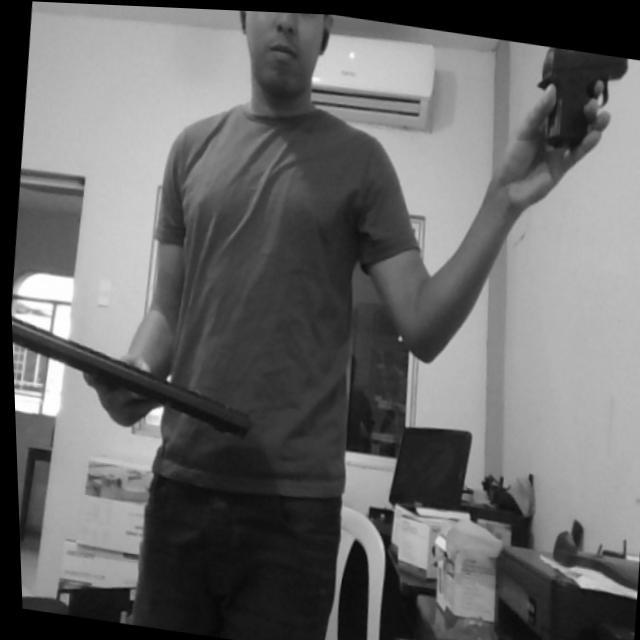weapon: (526, 39, 638, 154)
